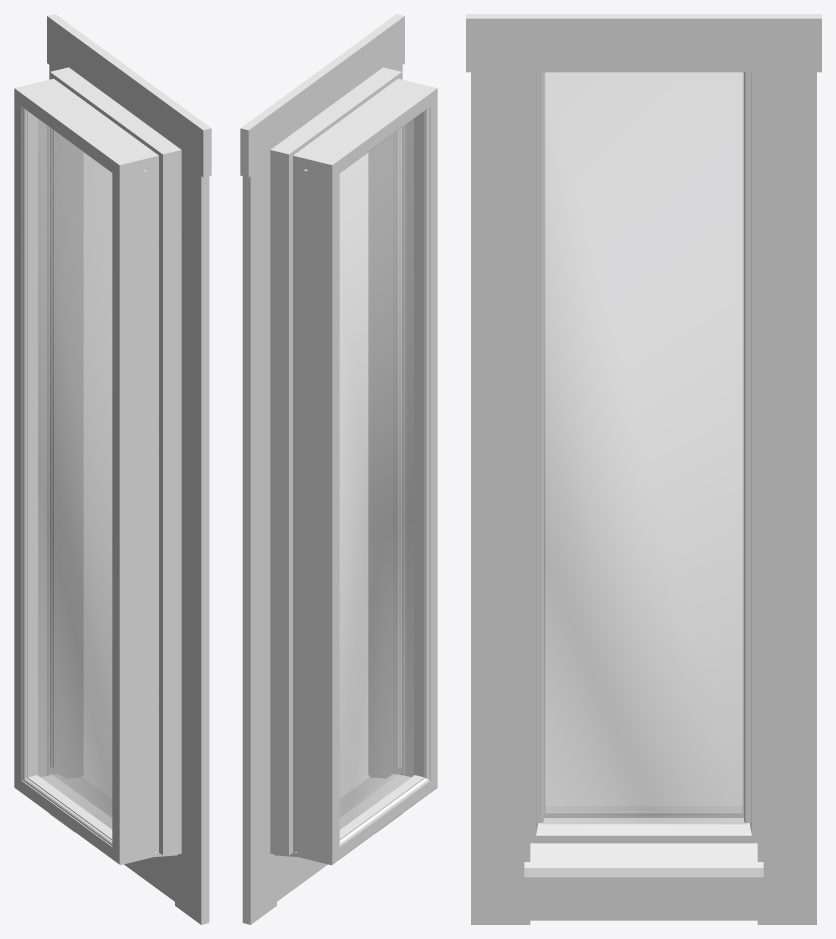
3 views of the same model, side by side, from view 1: azimuth 30°, elevation 25°; view 2: azimuth 150°, elevation 25°; view 3: azimuth 270°, elevation 25° (orthographic). The views are drawn at different scales.
Visible parts, largest first — view 1: clear glass_clonedChild, clear glass, window_material-2[1], window_material-2, accentcolor_cornerboard_material-5[1], accentcolor_cornerboard_material-2[1], accentcolor_cornerboard_material-2, accentcolor_cornerboard_material-4, window_material-3, accentcolor_cornerboard_material-5, window_material-5[1], window_material (+3 smaller); view 2: clear glass_clonedChild, clear glass, window_material-2, window_material-2[1], accentcolor_cornerboard_material-5, accentcolor_cornerboard_material-2, accentcolor_cornerboard_material-2[1], accentcolor_cornerboard_material-4, window_material-3, accentcolor_cornerboard_material-5[1], window_material-5, window_material (+3 smaller); view 3: clear glass[1]_clonedChild, clear glass[1], accentcolor_cornerboard_material-5, accentcolor_cornerboard_material-5[1], accentcolor_cornerboard_material-4, accentcolor_cornerboard_material-6, matte steel, window_material, window_material-2, window_material-2[1], window_material-5, window_material-5[1].
Part boxes in pixels (bbox=[...]): clear glass_clonedChild: bbox=[38, 119, 111, 828]; clear glass: bbox=[38, 120, 111, 828]; window_material-2[1]: bbox=[112, 168, 158, 858]; window_material-2: bbox=[14, 100, 58, 786]; accentcolor_cornerboard_material-5[1]: bbox=[175, 162, 209, 924]; accentcolor_cornerboard_material-2[1]: bbox=[156, 145, 181, 855]; accentcolor_cornerboard_material-2: bbox=[50, 67, 74, 776]; accentcolor_cornerboard_material-4: bbox=[47, 14, 211, 177]; window_material-3: bbox=[14, 78, 158, 177]; accentcolor_cornerboard_material-5: bbox=[49, 65, 83, 832]; window_material-5[1]: bbox=[50, 128, 57, 768]; window_material: bbox=[14, 774, 158, 865]; clear glass_clonedChild: bbox=[340, 119, 413, 828]; clear glass: bbox=[340, 120, 413, 828]; window_material-2: bbox=[293, 168, 339, 858]; window_material-2[1]: bbox=[393, 100, 437, 786]; accentcolor_cornerboard_material-5: bbox=[242, 162, 276, 924]; accentcolor_cornerboard_material-2: bbox=[270, 145, 295, 855]; accentcolor_cornerboard_material-2[1]: bbox=[377, 67, 401, 776]; accentcolor_cornerboard_material-4: bbox=[240, 14, 404, 177]; window_material-3: bbox=[293, 78, 437, 177]; accentcolor_cornerboard_material-5[1]: bbox=[368, 65, 402, 832]; window_material-5: bbox=[394, 128, 401, 768]; window_material: bbox=[293, 774, 437, 865]; clear glass[1]_clonedChild: bbox=[541, 73, 746, 823]; clear glass[1]: bbox=[541, 73, 746, 823]; accentcolor_cornerboard_material-5: bbox=[757, 72, 816, 924]; accentcolor_cornerboard_material-5[1]: bbox=[471, 72, 530, 924]; accentcolor_cornerboard_material-4: bbox=[466, 14, 821, 72]; accentcolor_cornerboard_material-6: bbox=[530, 877, 757, 920]; matte steel: bbox=[524, 841, 763, 877]; window_material: bbox=[530, 806, 757, 841]; window_material-2: bbox=[742, 72, 757, 837]; window_material-2[1]: bbox=[530, 72, 545, 837]; window_material-5: bbox=[536, 72, 543, 822]; window_material-5[1]: bbox=[744, 72, 751, 822].
Size of the model in its own units: 0.1871 by 2.02 by 0.72.
Materials: 25 (16 with a texture image).
